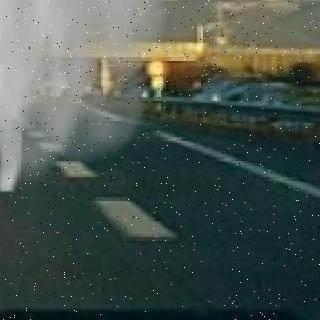smoke: (0, 0, 163, 172)
